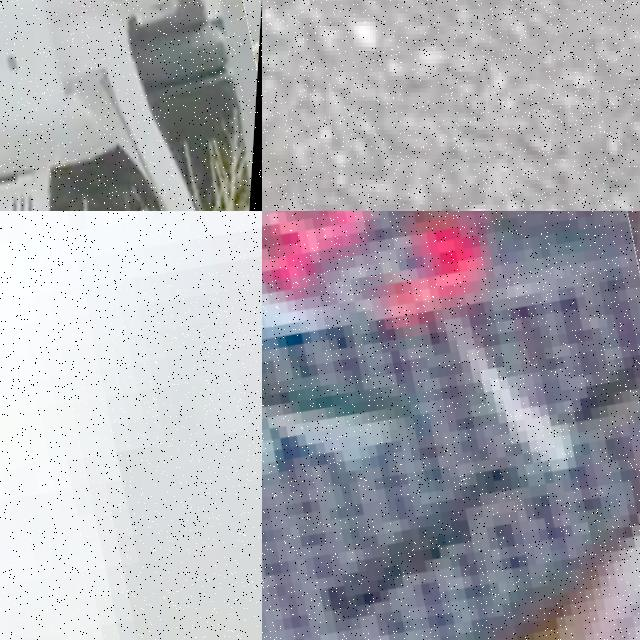drone: (262, 211, 640, 640), (0, 211, 262, 640), (0, 0, 262, 211)
